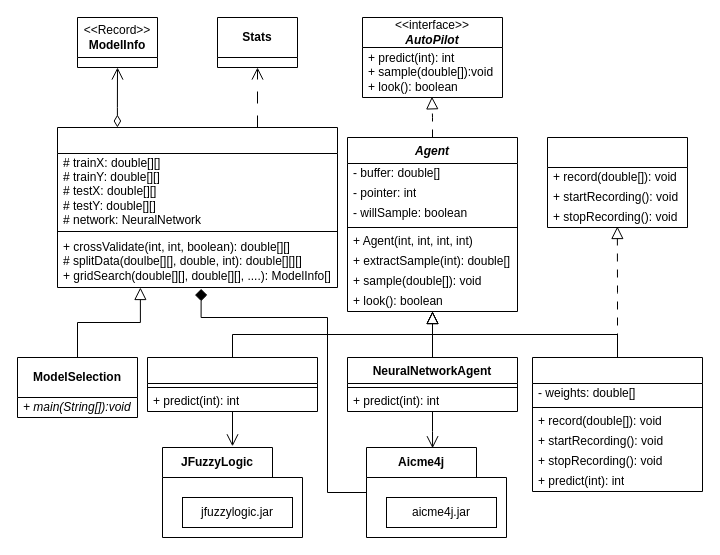
Some shapes in this 720 by 555 pixel diagram are drawn without their labels. Here are the shapes that lost their labels. From the top down, the box of each, then its label:
(546, 136, 688, 228): <<interface>> Trainer
(56, 126, 338, 288): TestPlatform
(146, 356, 318, 412): FuzzyAgent
(532, 356, 702, 492): ProgrammedAgent
